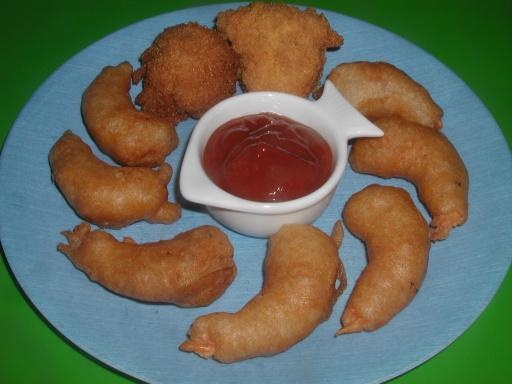background: (38, 0, 275, 185), (143, 36, 375, 218), (106, 56, 266, 121)
